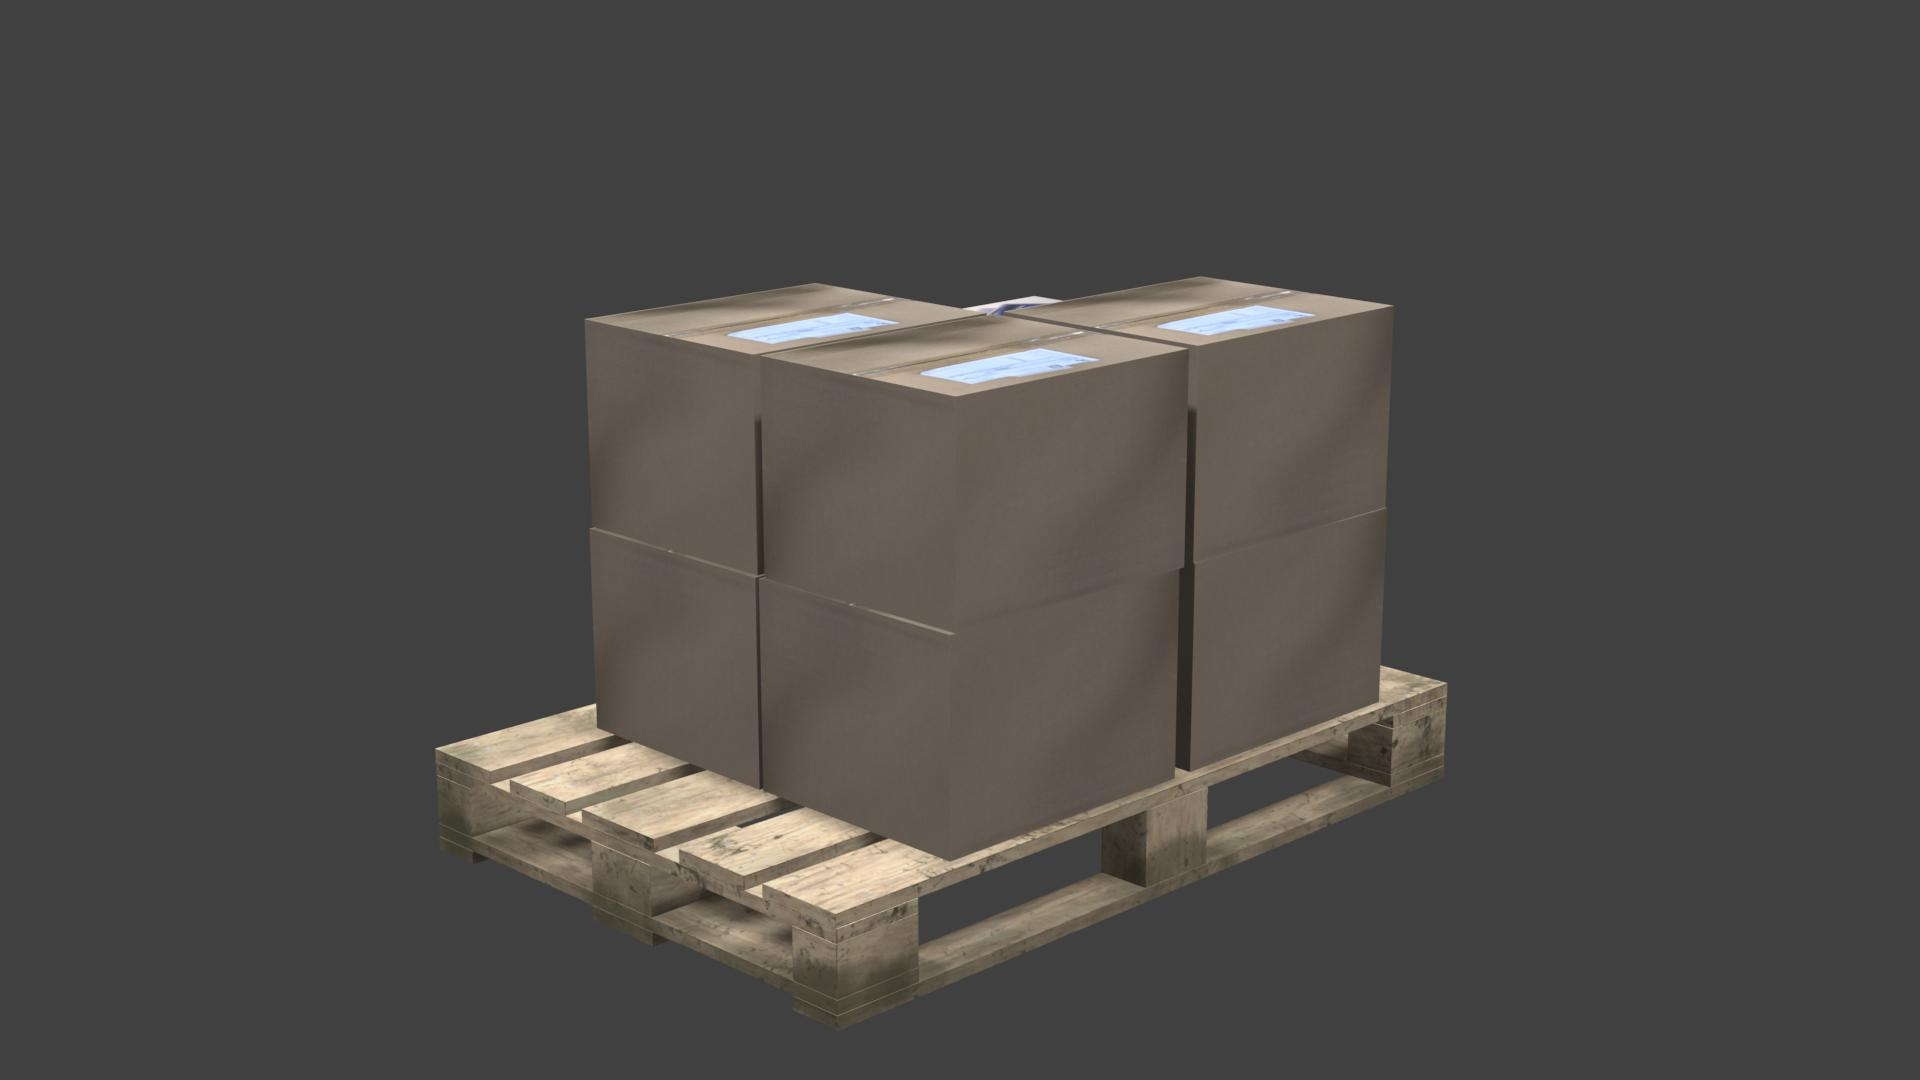group_box_left: (760, 569, 1180, 862), (761, 349, 1187, 633), (1176, 509, 1387, 772), (1186, 307, 1394, 563), (584, 320, 764, 575), (590, 529, 761, 790)
group_box_top: (763, 316, 1188, 396), (585, 283, 985, 355), (1005, 277, 1393, 346)
palet: (435, 665, 1448, 1032)
tablet_top: (962, 297, 1062, 315)
